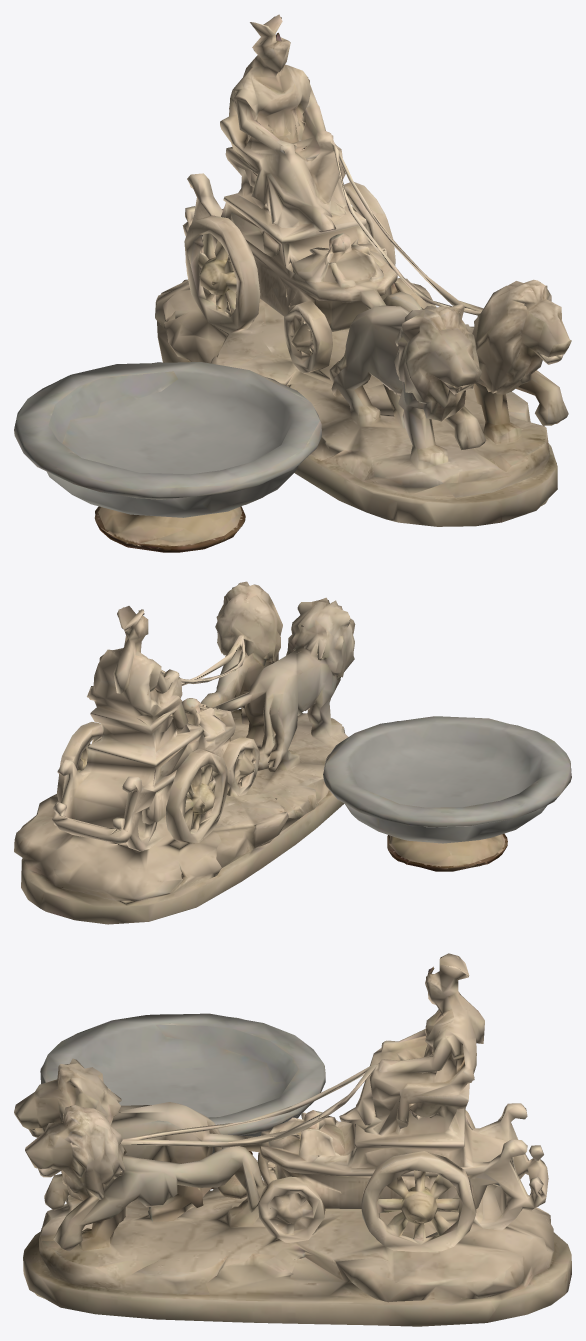
File: madrid-cibeles.glb
3 renders of one model, top to bottom at view 1: azimuth 30°, elevation 25°; view 2: azimuth 150°, elevation 25°; view 3: azimuth 270°, elevation 25°, orthographic. The views are drawn at different scales.
Parts seen in each view (by area): view 1: geometry_0; view 2: geometry_0; view 3: geometry_0.
Part boxes in pixels (left/top/right/bottom): geometry_0: left=14, top=14, right=571, bottom=552; geometry_0: left=14, top=581, right=571, bottom=924; geometry_0: left=14, top=953, right=571, bottom=1326.
Bounding box in the file's own units: 0.9843 × 0.6204 × 0.9978.
Materials: 1 (1 with a texture image).
